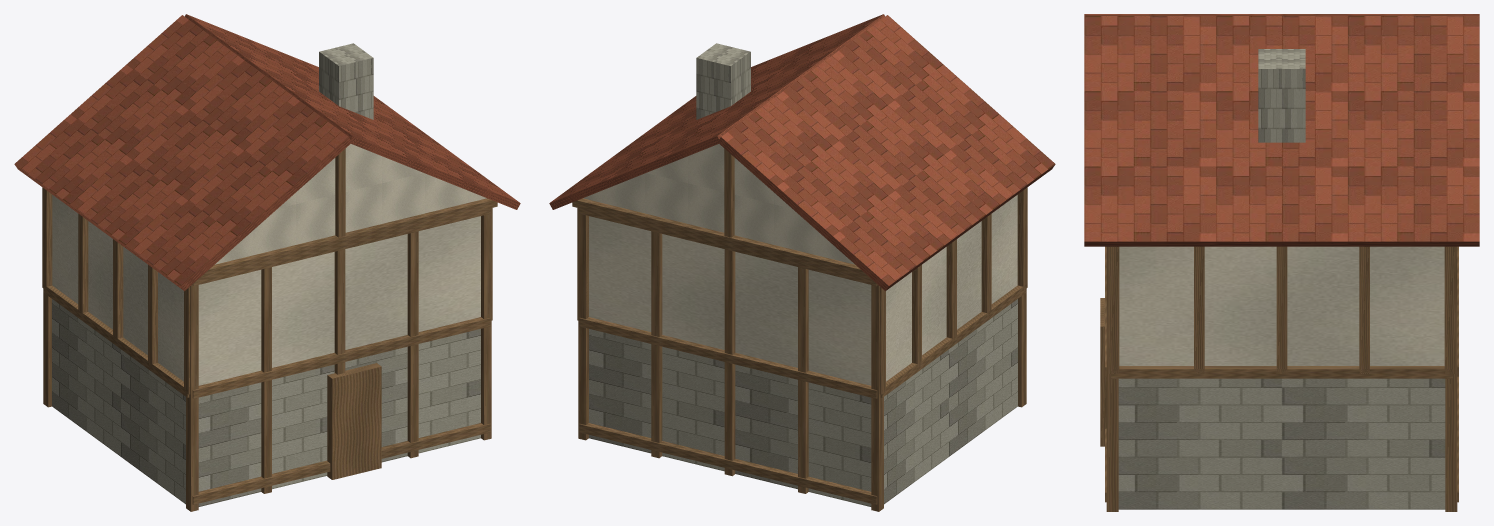
3 renders of one model, left to right at view 1: azimuth 30°, elevation 25°; view 2: azimuth 150°, elevation 25°; view 3: azimuth 270°, elevation 25°, orthographic. The views are drawn at different scales.
Visible parts, largest first — view 1: house-roof, house-plaster, house-stone, house-wood; view 2: house-roof, house-plaster, house-stone, house-wood; view 3: house-roof, house-stone, house-plaster, house-wood.
Boxes of the visible parts, left/top/right/bottom form: house-roof: left=14, top=14, right=520, bottom=291; house-plaster: left=52, top=144, right=486, bottom=385; house-stone: left=52, top=43, right=480, bottom=506; house-wood: left=42, top=148, right=497, bottom=511; house-roof: left=549, top=14, right=1055, bottom=291; house-plaster: left=583, top=144, right=1017, bottom=385; house-stone: left=589, top=43, right=1017, bottom=506; house-wood: left=572, top=148, right=1027, bottom=511; house-roof: left=1084, top=14, right=1479, bottom=246; house-stone: left=1118, top=49, right=1445, bottom=509; house-plaster: left=1119, top=246, right=1444, bottom=365; house-wood: left=1100, top=246, right=1458, bottom=511.
Size of the model in its own units: 7.88 by 7.7 by 6.7.
4 materials, 4 textured.
